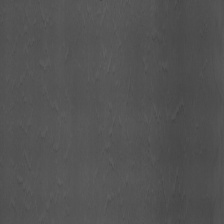silk_spot: (140, 71, 188, 190), (97, 94, 128, 177), (91, 33, 120, 71)
